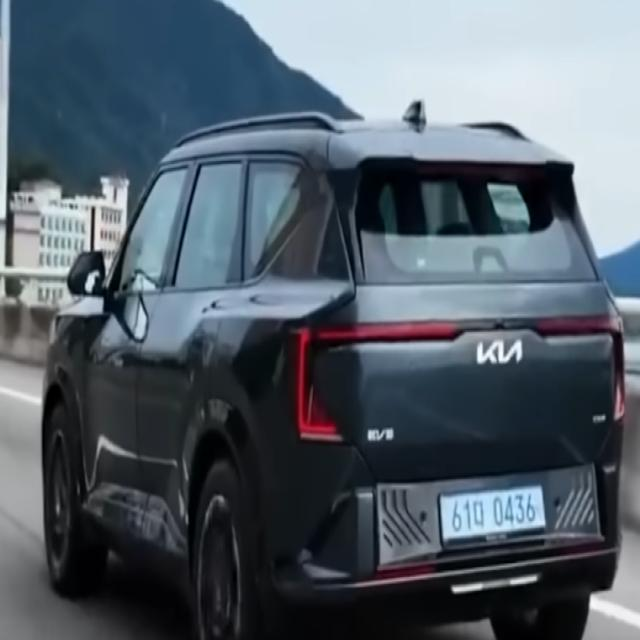car: (428, 459, 564, 562)
carev: (439, 492, 453, 546), (535, 485, 548, 530)
